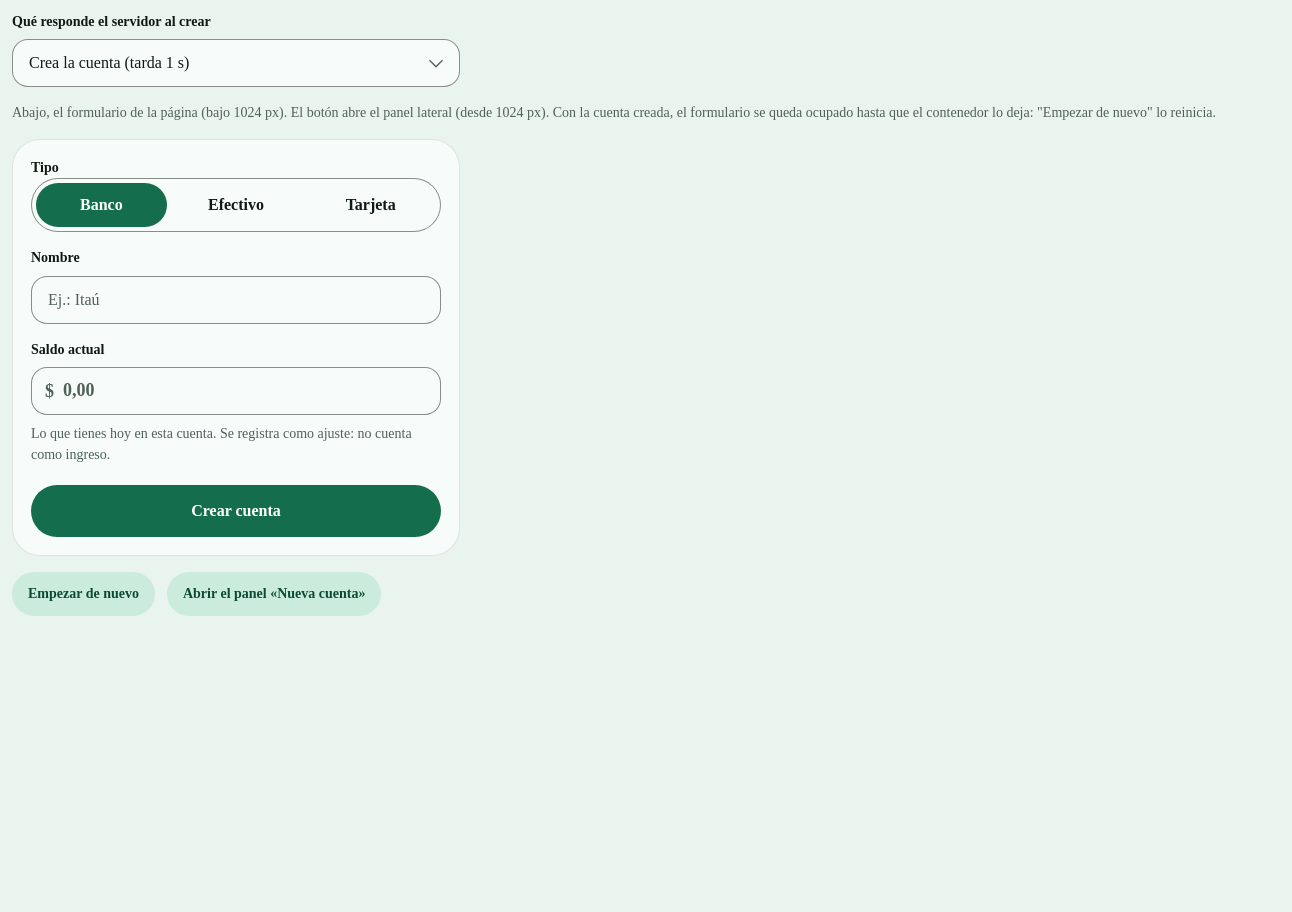
Test: AccountFormDemo › shows the Alert of the server outcome
Select "500: error del servidor" in the dropdown labelled "Qué responde el servidor al crear": (236, 63) left=12, top=39, right=460, bottom=87
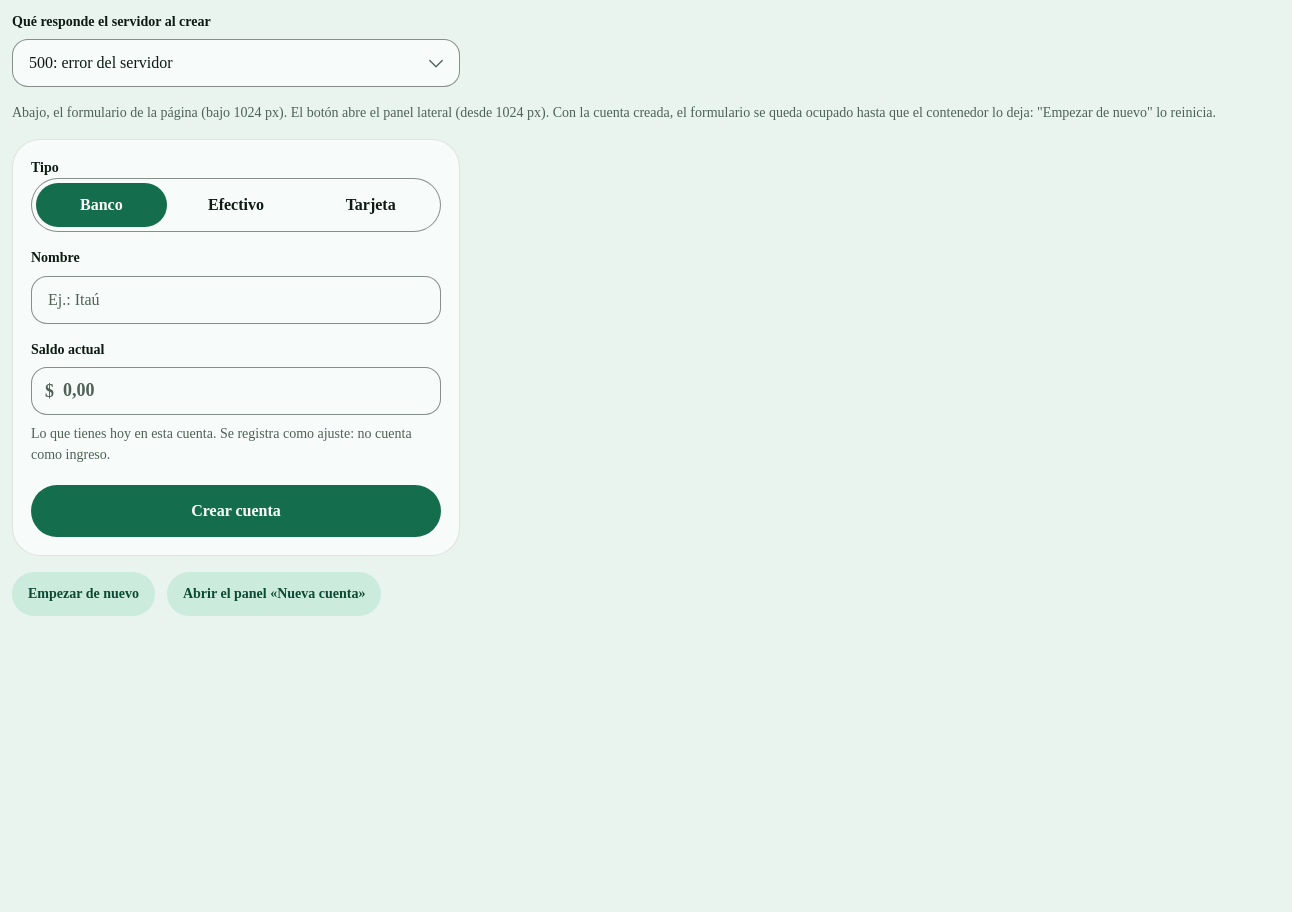
In the field labelled "Nombre": (236, 300) left=31, top=276, right=441, bottom=324, type "Itaú"
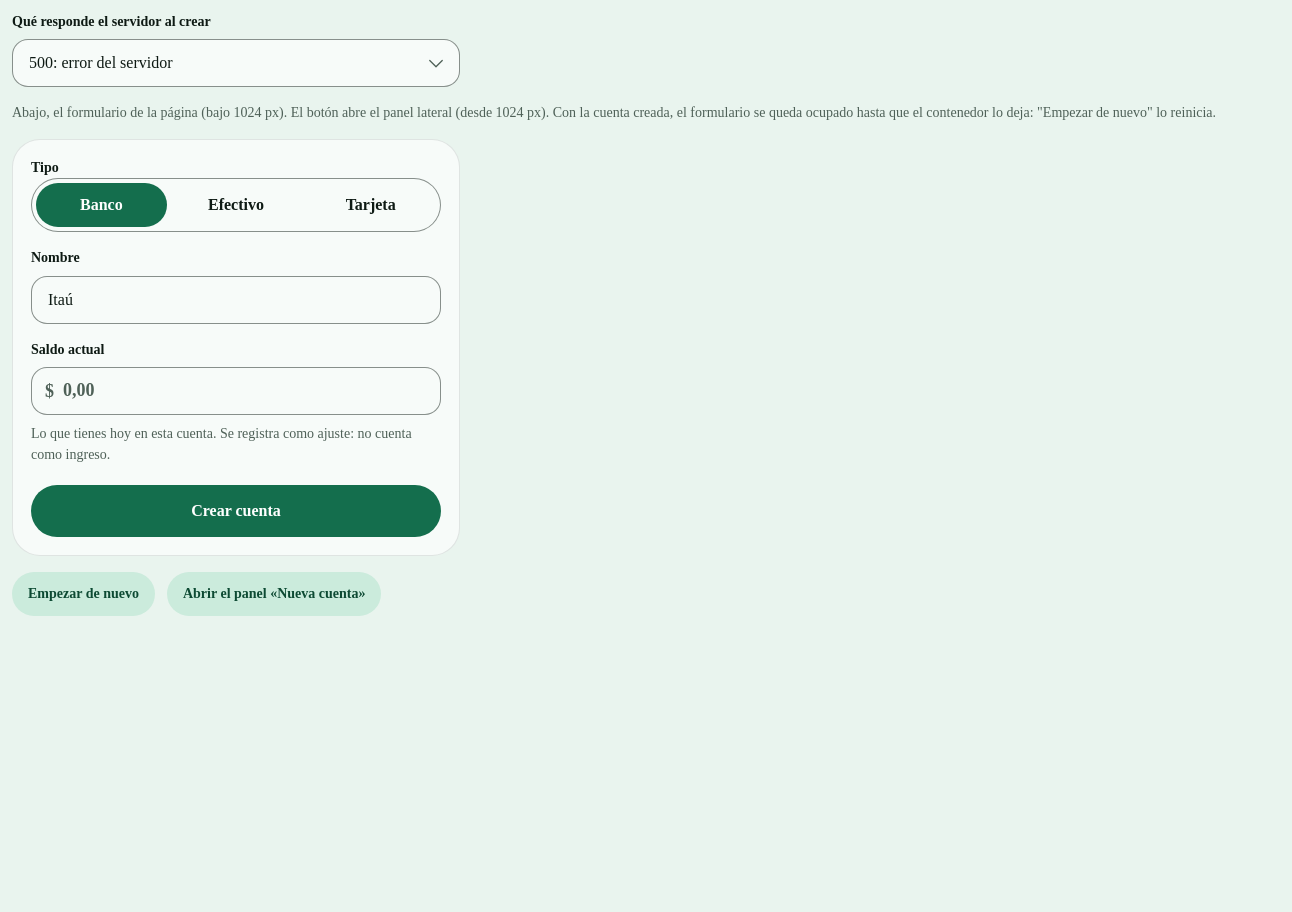
Click the button "Crear cuenta": (236, 511) left=31, top=485, right=441, bottom=537
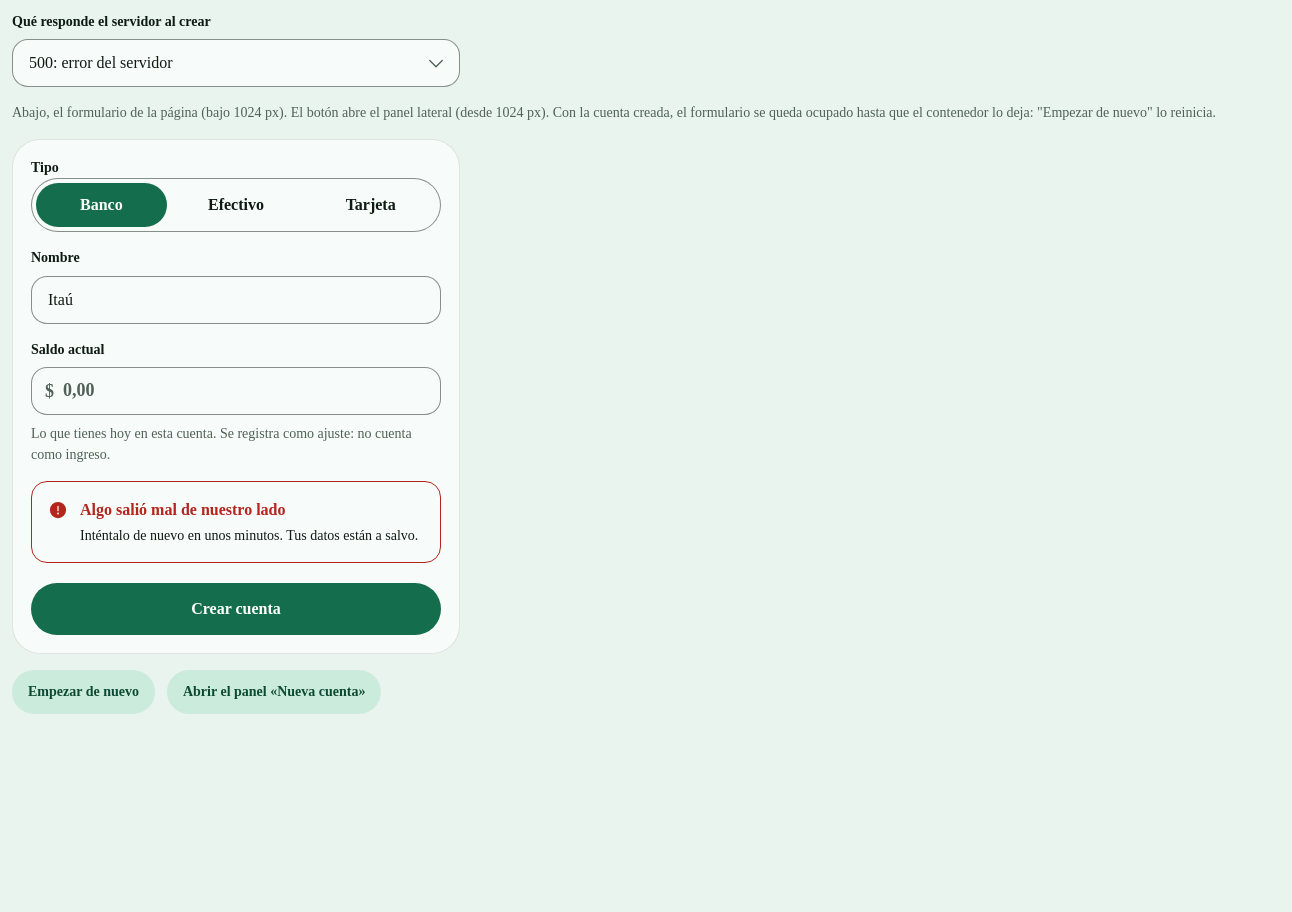
Result: the message shows "Algo salió mal de nuestro lado" at left=80, top=501, right=286, bottom=518
